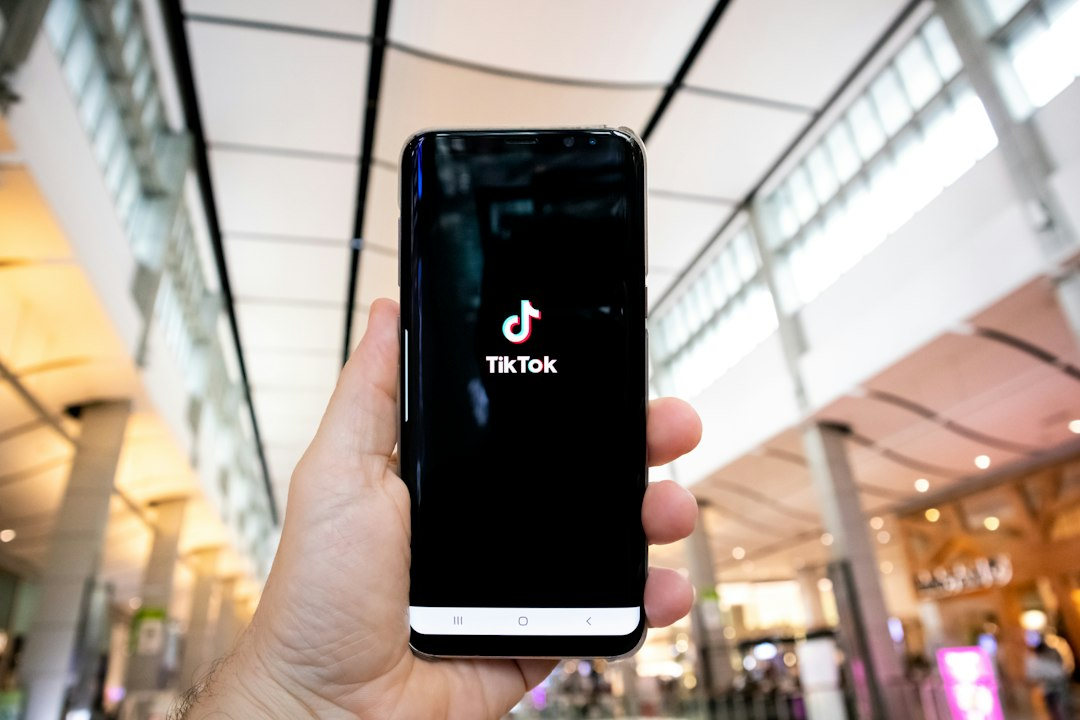phone: (399, 127, 651, 660)
